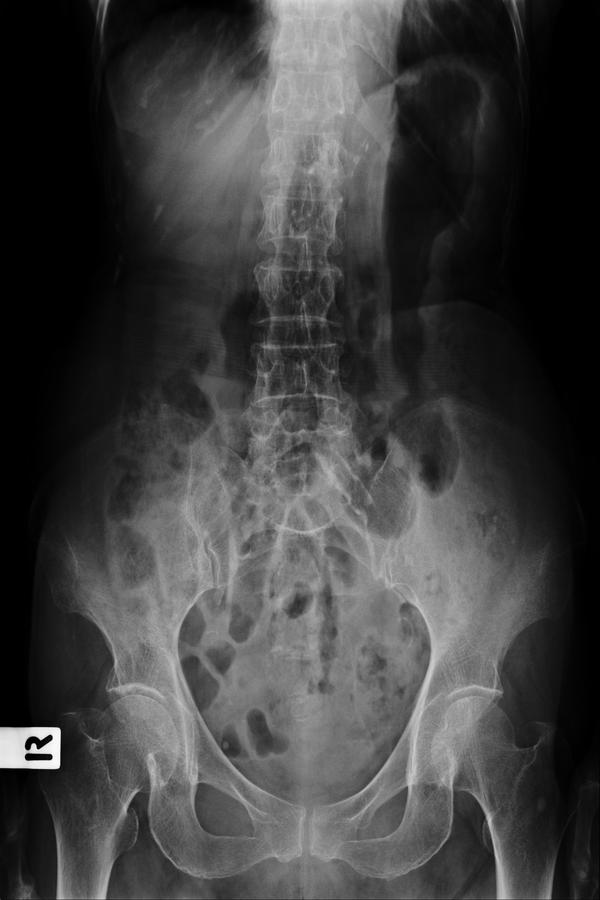lumbar scoliosis: (238, 8, 358, 531)
